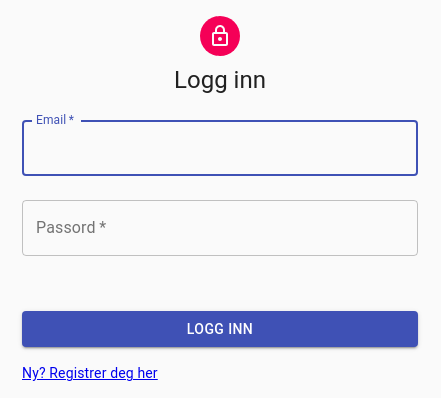
Test: Log in component › will say wrong password - error
This screenshot has width=441, height=398.
In the field labelled "Email *": (220, 148) [22,120,418,176], type "test@test.com"
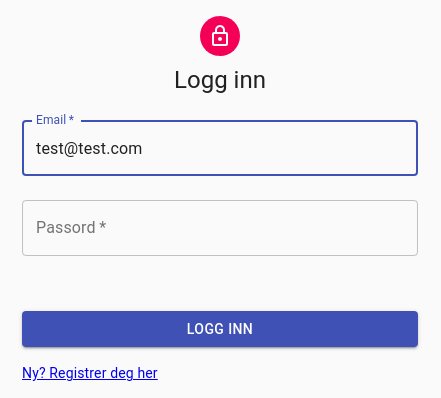
In the password field labelled "Passord *": (220, 228) [22,200,418,256], type "password"
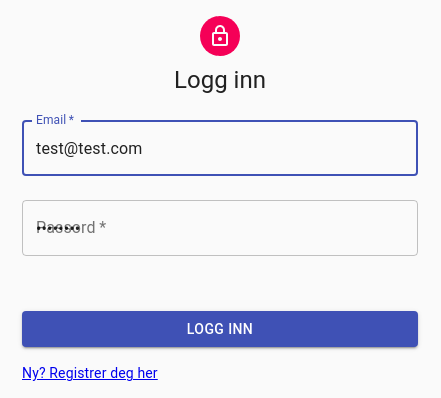
Click the button "Logg Inn": (220, 329) [22,311,418,347]
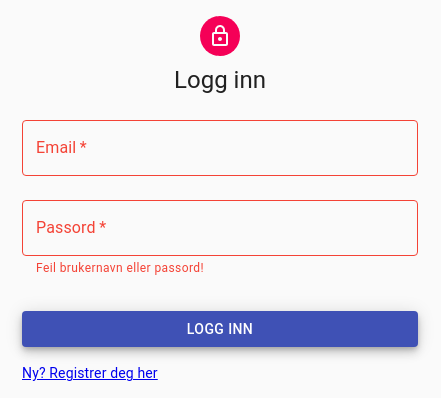
Now the text "Feil brukernavn eller passord!" is shown, box [36,261,204,275]
